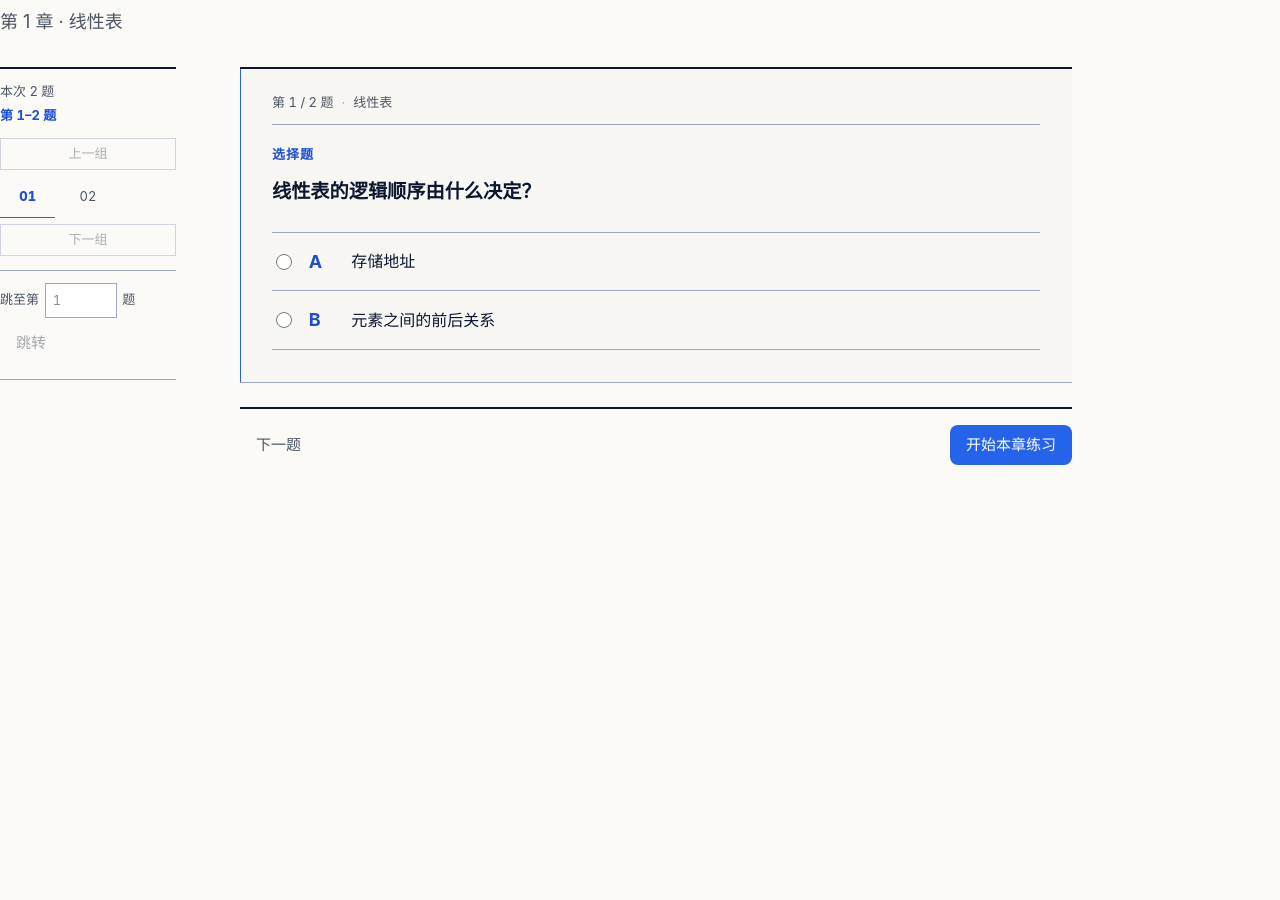
Test: Cs408PracticeWorkspace › moves focus to the unanswered confirmation and returns it to the submit control
The image size is (1280, 900).
What coordinates should you click on to do the following:
click the 2nd radio button named "元素之间的前后关系"
I would click on:
 (284, 320)
Its box is [276,312,292,328].
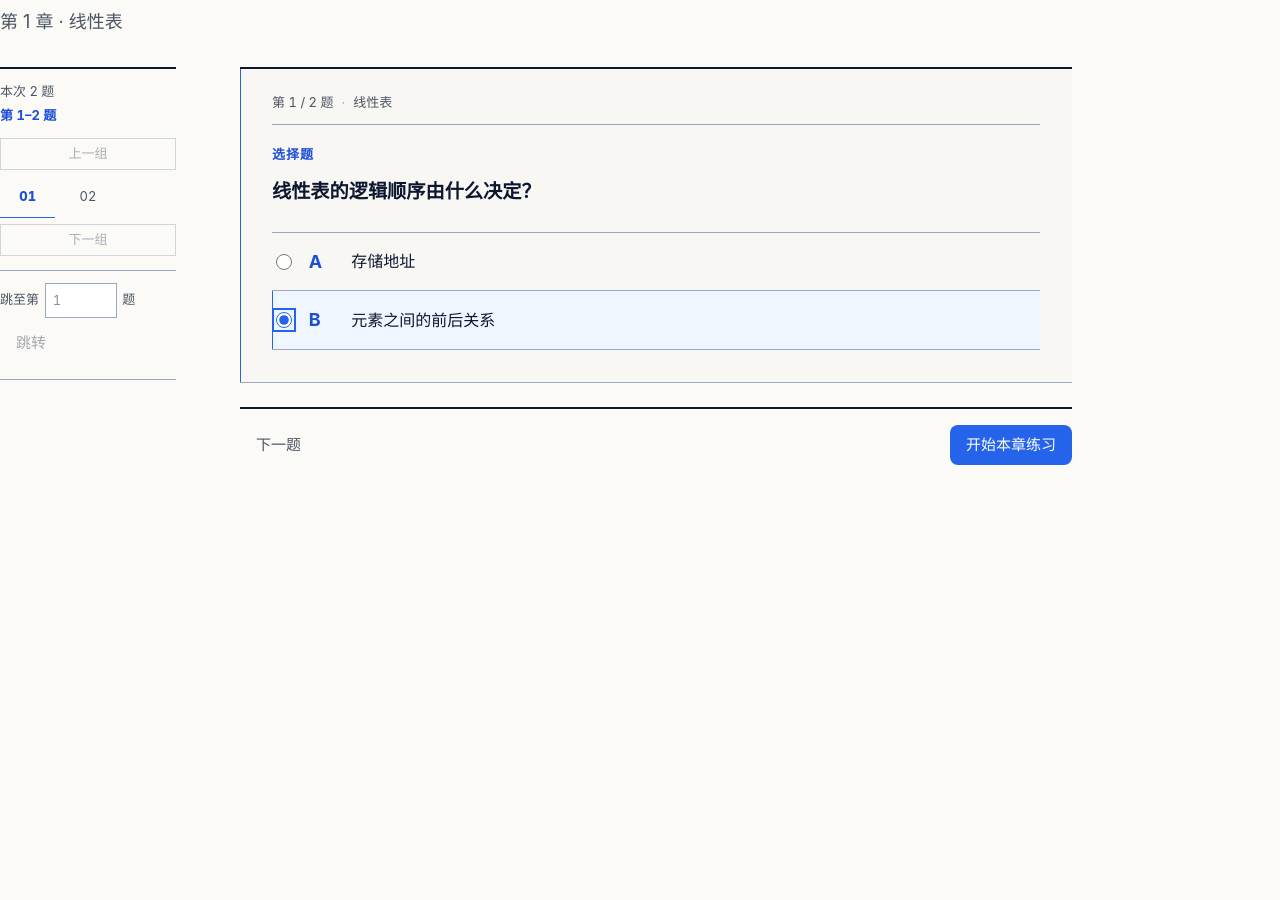
What coordinates should you click on to do the following:
click the button "开始本章练习"
I would click on:
 (1011, 445)
Its box is [950,425,1072,465].
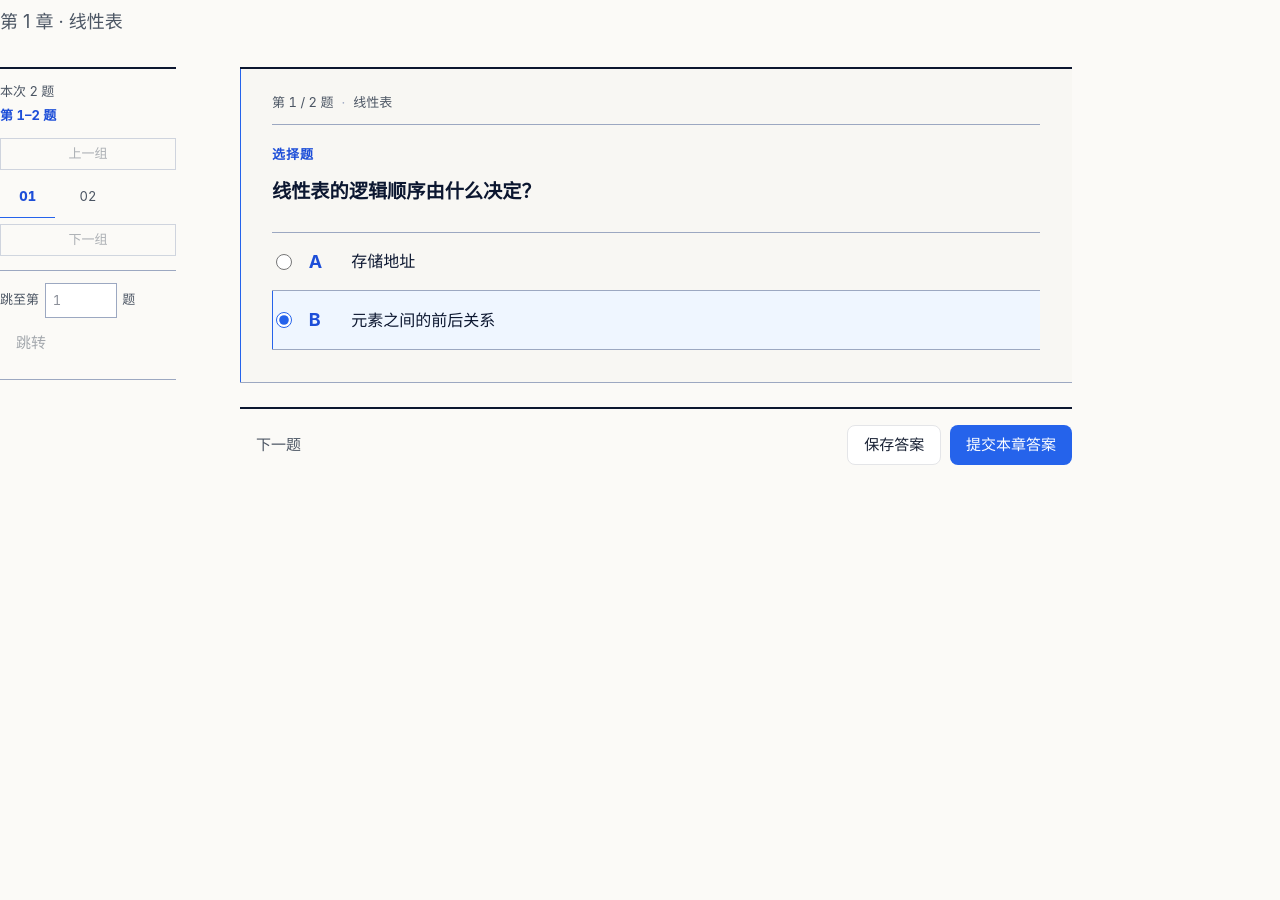
What coordinates should you click on to do the following:
click the button "提交本章答案"
I would click on:
 (1011, 445)
Its box is [950,425,1072,465].
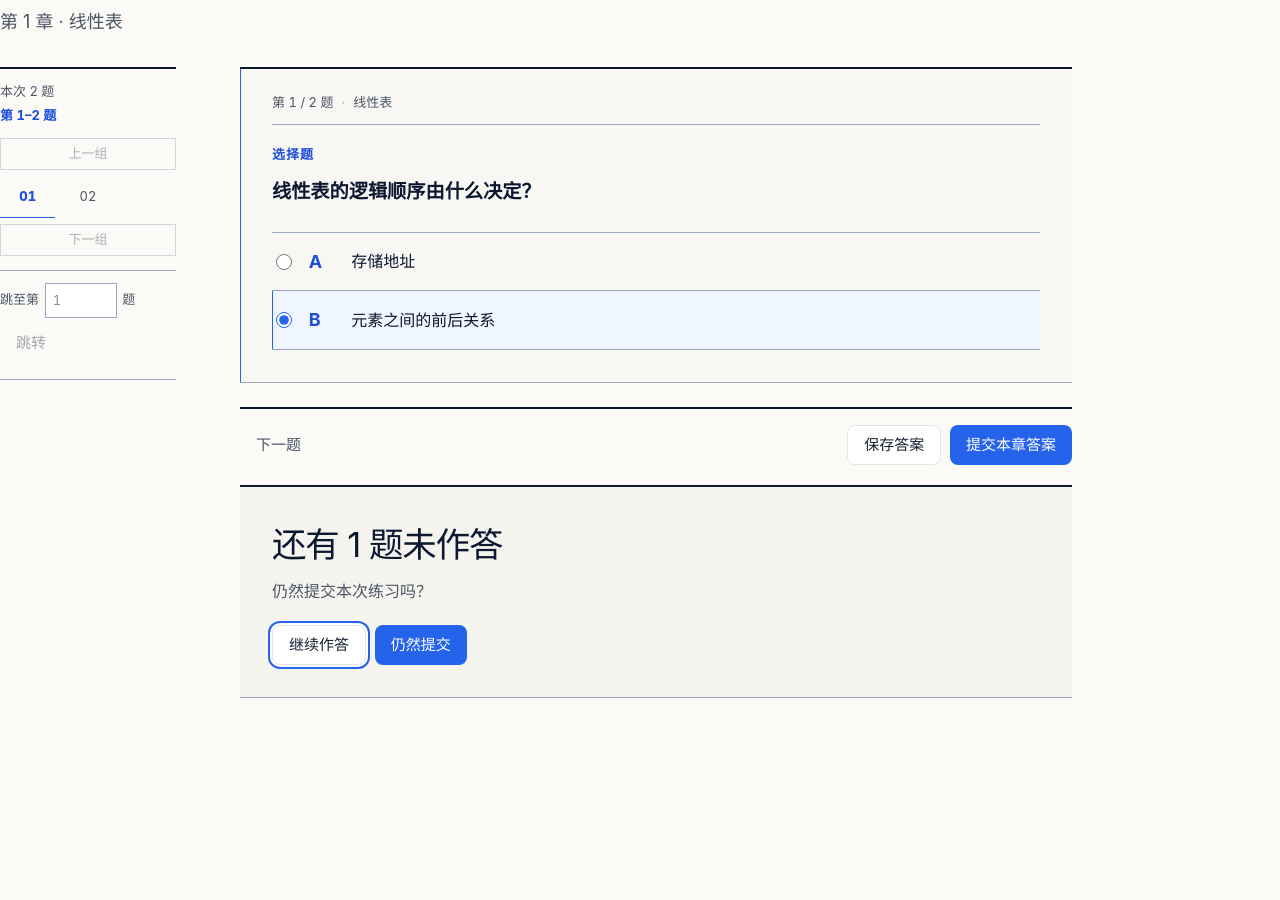
Expected: the dialog is shown, [240,485,1072,698]
What coordinates should you click on to do the following:
click the button "继续作答"
I would click on:
 (319, 645)
Its box is [272,625,366,665].
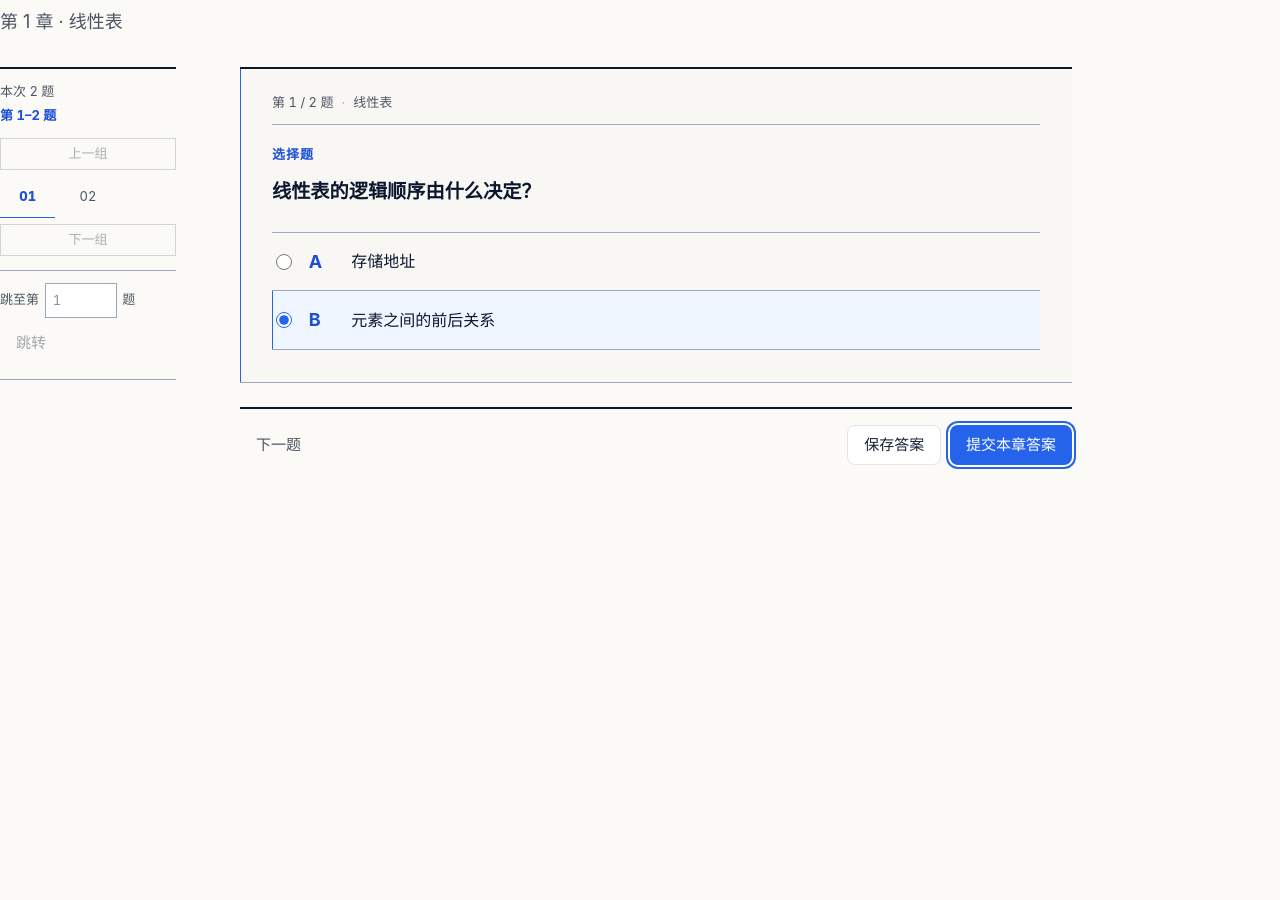
Expected: the dialog is gone
